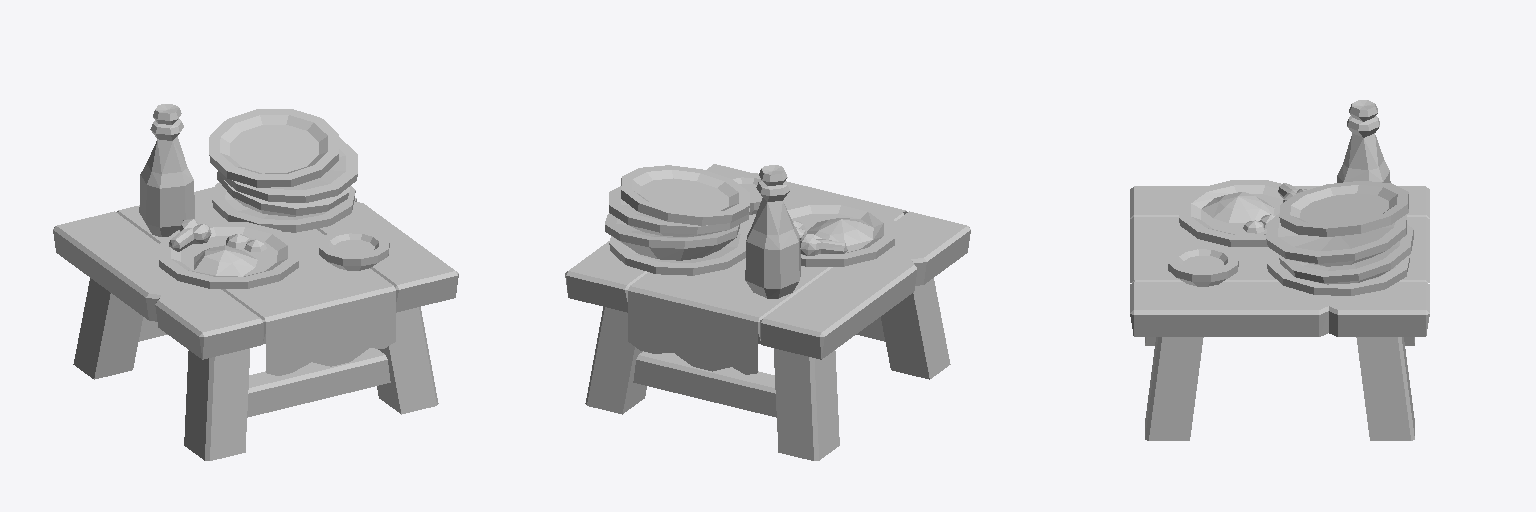
Rendered from table_medium_tablecloth_decorated_B.obj.
3 views of the same model, side by side, from view 1: azimuth 30°, elevation 25°; view 2: azimuth 150°, elevation 25°; view 3: azimuth 270°, elevation 25° (orthographic).
Visible parts, largest first — view 1: table_medium_tablecloth_decorated_B_Cube.15593; view 2: table_medium_tablecloth_decorated_B_Cube.15593; view 3: table_medium_tablecloth_decorated_B_Cube.15593.
Boxes of the visible parts, x1=… form: table_medium_tablecloth_decorated_B_Cube.15593: x1=53, y1=104, x2=458, y2=460; table_medium_tablecloth_decorated_B_Cube.15593: x1=565, y1=164, x2=970, y2=460; table_medium_tablecloth_decorated_B_Cube.15593: x1=1130, y1=100, x2=1429, y2=440.
Bounding box in the file's own units: 2 × 1.89 × 2.